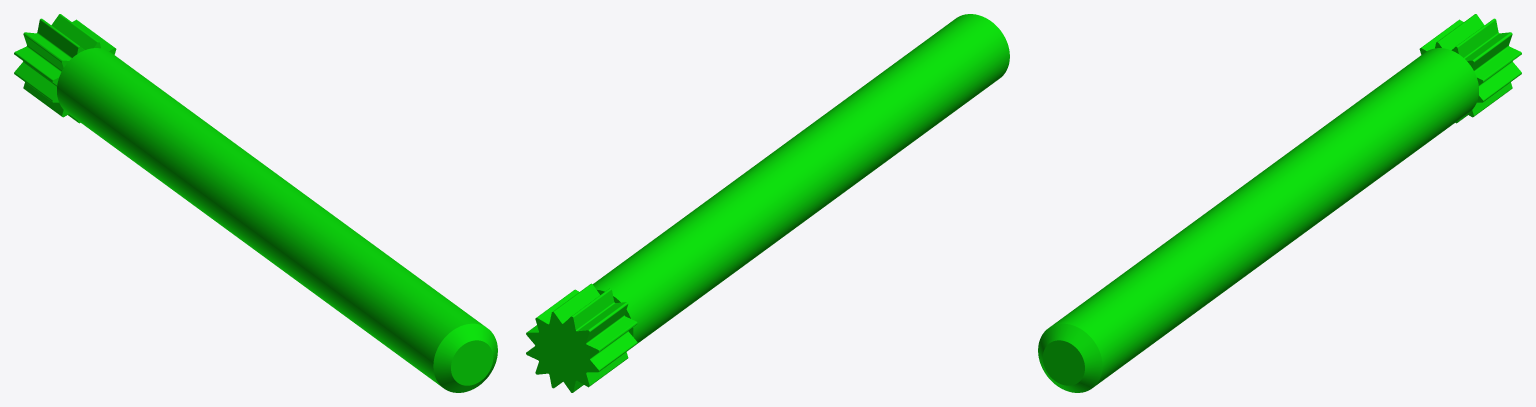
File: CVRTopPin.gltf
The picture shows the model from 3 angles, left to right: view 1: azimuth 30°, elevation 25°; view 2: azimuth 150°, elevation 25°; view 3: azimuth 330°, elevation 25°; orthographic projection.
Visible parts, largest first — view 1: 68-1529; view 2: 68-1529; view 3: 68-1529.
Boxes of the visible parts, x1,y1,x2,y2 form: 68-1529: (14, 14, 497, 392); 68-1529: (526, 14, 1009, 392); 68-1529: (1038, 14, 1521, 392).
Bounding box in the file's own units: 0.00333 × 0.00333 × 0.0333.
